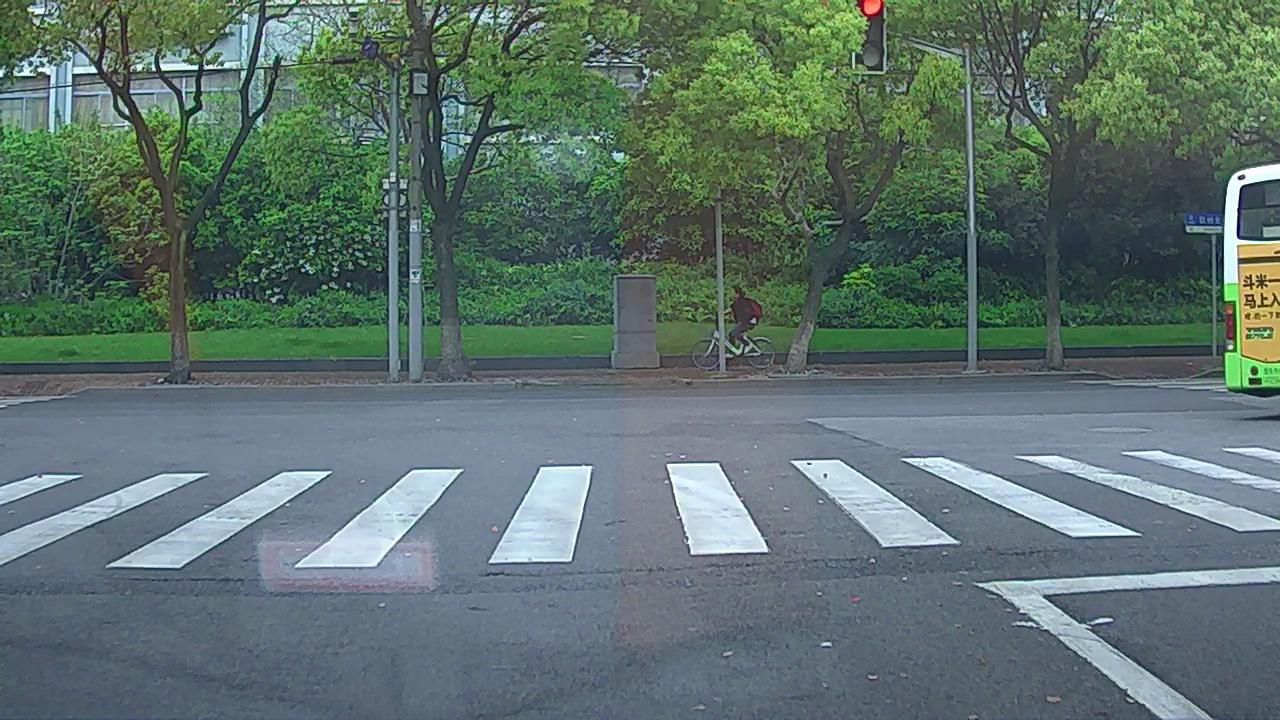traffic_light: (860, 1, 881, 73)
